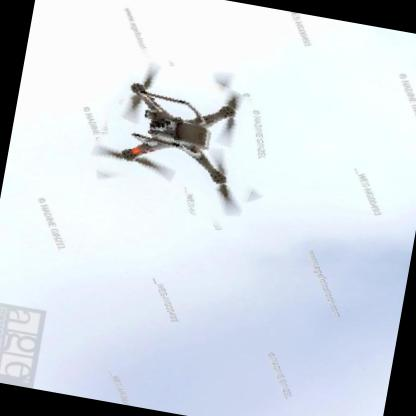plane: (85, 52, 284, 228)
